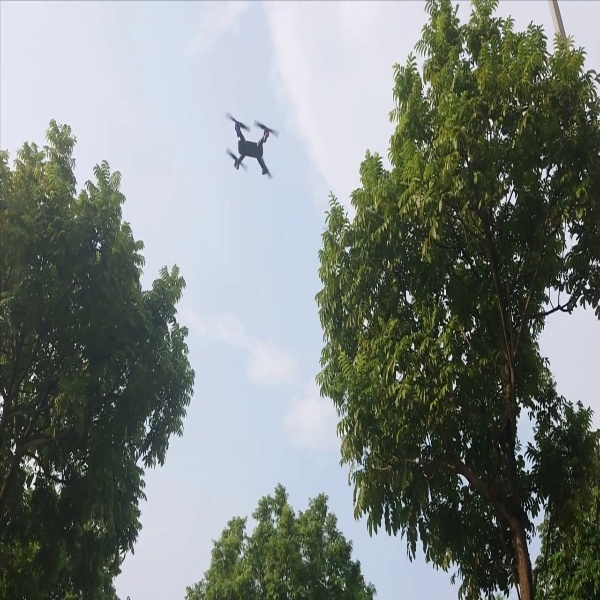drone: (215, 101, 283, 185)
